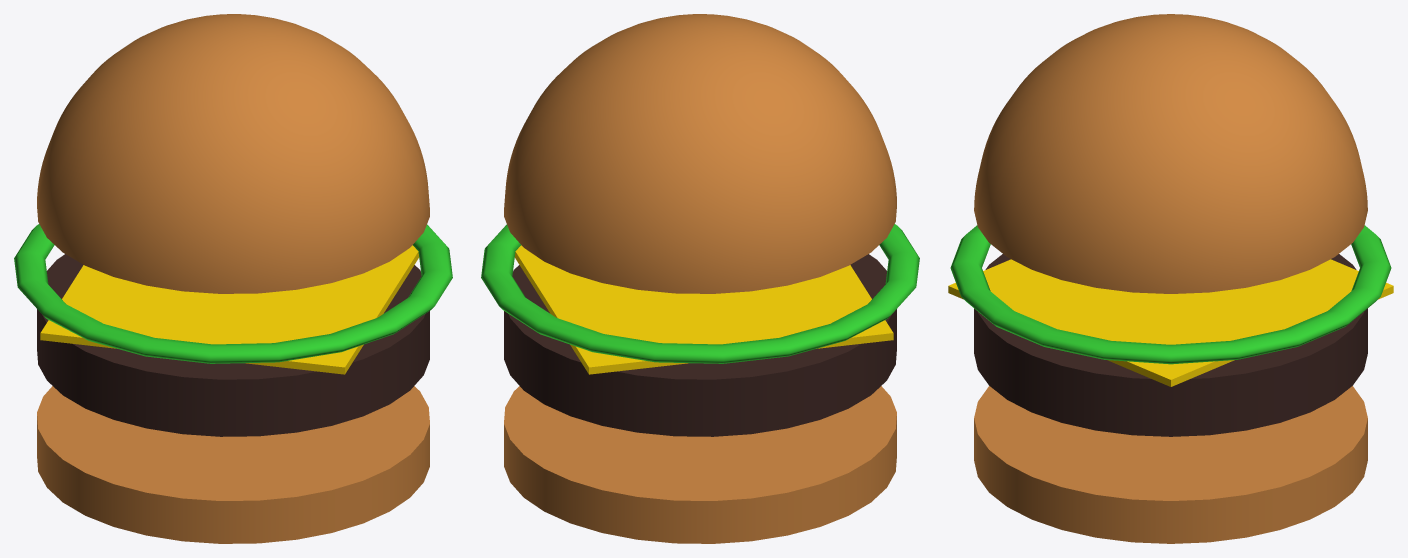
File: veg_burger.glb
3 views of the same model, side by side, from view 1: azimuth 30°, elevation 25°; view 2: azimuth 150°, elevation 25°; view 3: azimuth 270°, elevation 25° (orthographic).
Size of the model in its own units: 5.66 by 6 by 5.66.
